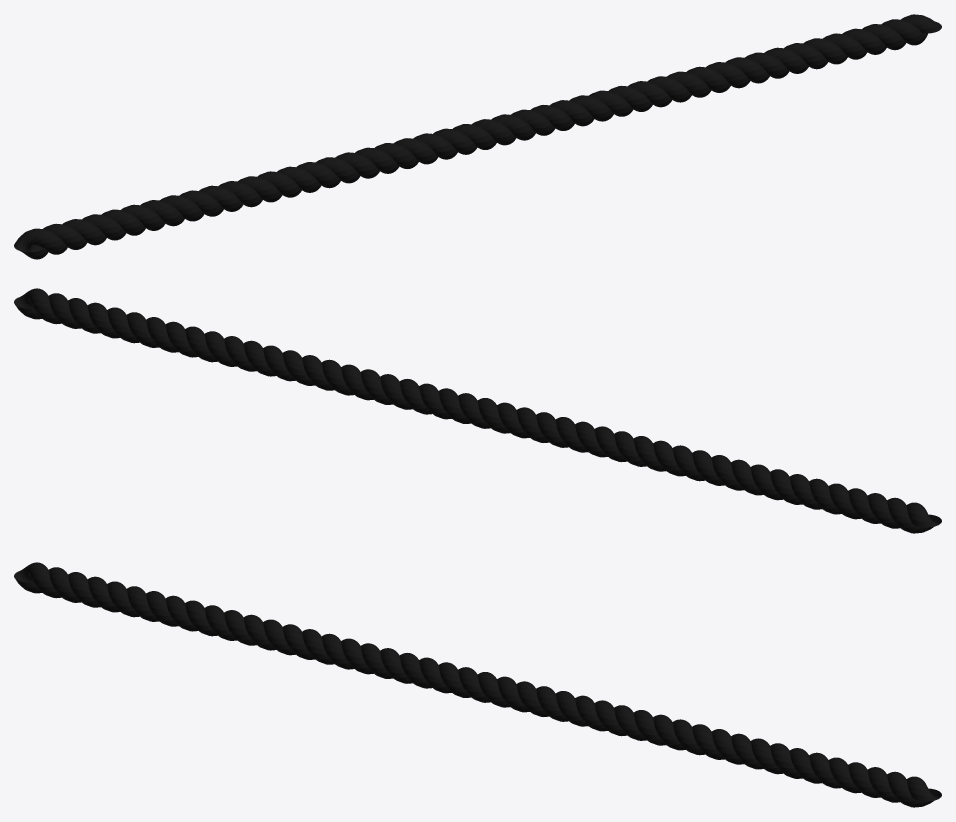
The model's file is wirewire.glb.
The picture shows the model from 3 angles, top to bottom: view 1: azimuth 30°, elevation 25°; view 2: azimuth 150°, elevation 25°; view 3: azimuth 330°, elevation 25°; orthographic projection.
Parts seen in each view (by area): view 1: Circle_Circle.001; view 2: Circle_Circle.001; view 3: Circle_Circle.001.
Boxes of the visible parts, x1,y1,x2,y2 form: Circle_Circle.001: (14, 14, 941, 259); Circle_Circle.001: (14, 288, 941, 533); Circle_Circle.001: (14, 562, 941, 807).
Bounding box in the file's own units: 68.7 × 2 × 2.
1 material, 1 textured.
